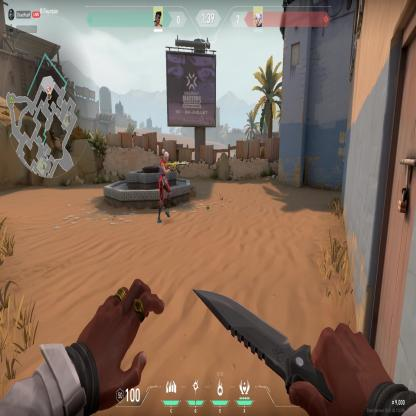enemy: (158, 150, 170, 225)
